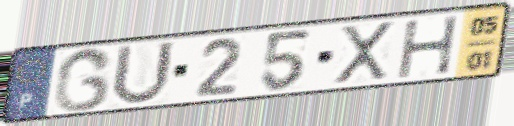2: (194, 36, 245, 99)
5: (257, 26, 315, 95)
G: (50, 45, 116, 114)
H: (396, 13, 463, 81)
U: (107, 39, 179, 108)
X: (333, 19, 397, 87)
